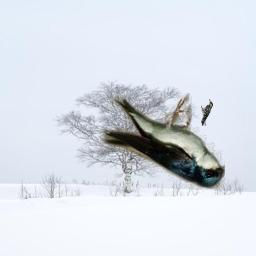Swallow: (100, 93, 225, 189)
Woodpecker: (201, 98, 213, 126)
